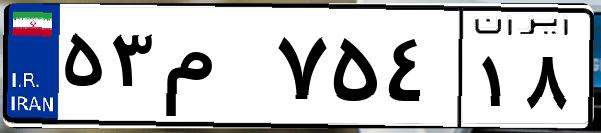1: (475, 38, 525, 113)
3: (110, 28, 158, 98)
4: (385, 28, 445, 110)
5: (330, 28, 385, 110), (57, 26, 110, 100)
7: (270, 28, 330, 110)
8: (525, 38, 570, 115)
م: (158, 20, 270, 120)
